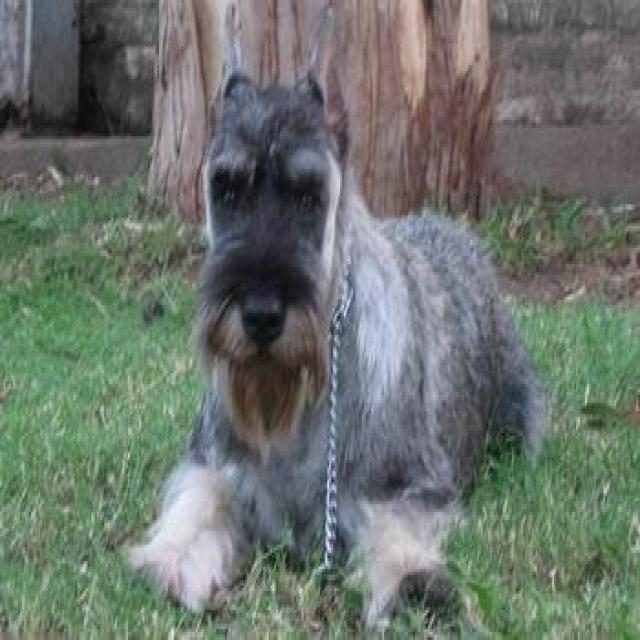standard_schnauzer: (115, 0, 554, 635)
